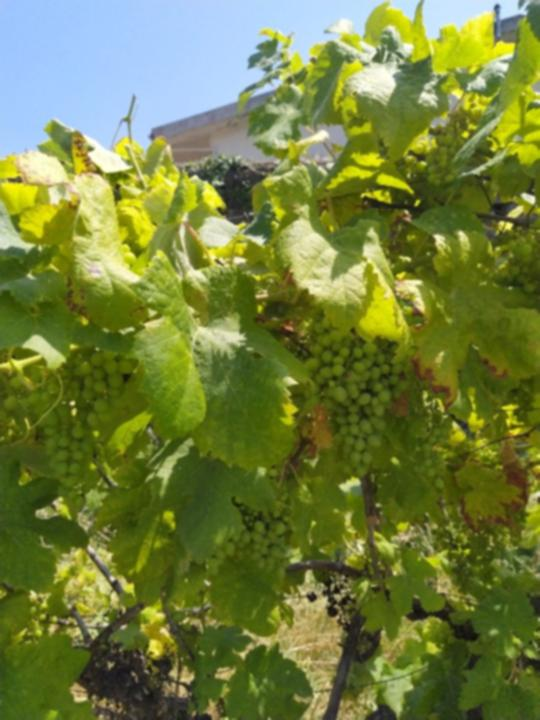grape: (2, 348, 136, 510), (301, 302, 406, 479), (205, 484, 292, 582)
